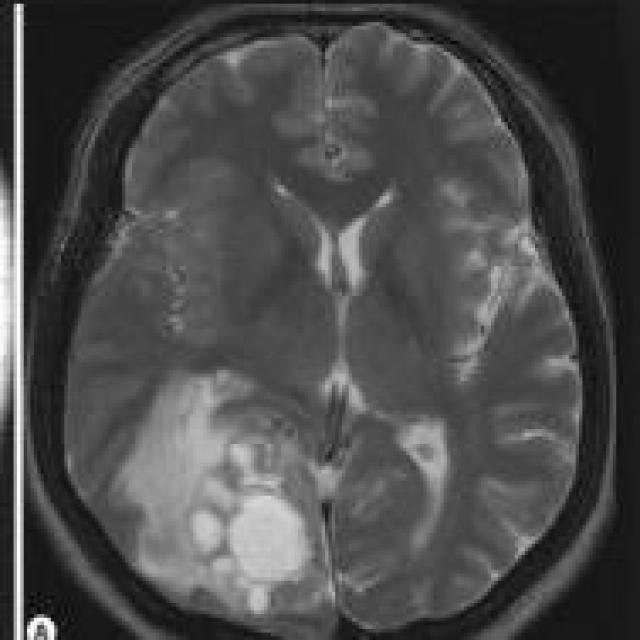Tumor-Cell: (168, 421, 347, 609)
